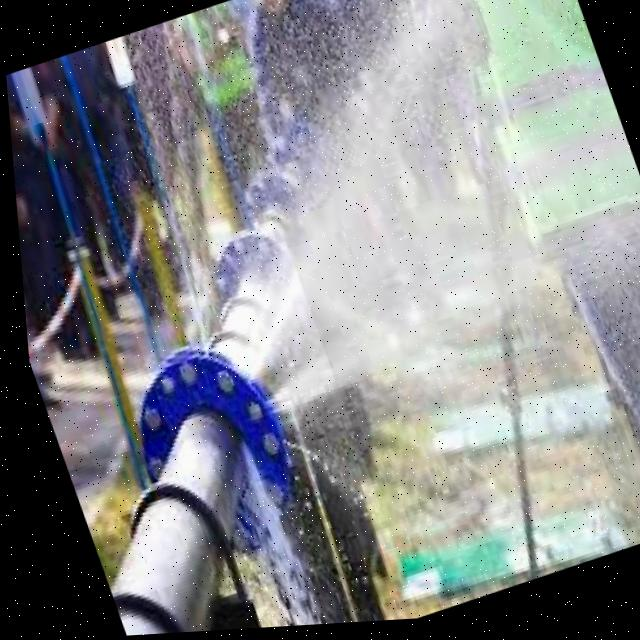corrosion: (89, 227, 383, 534)
